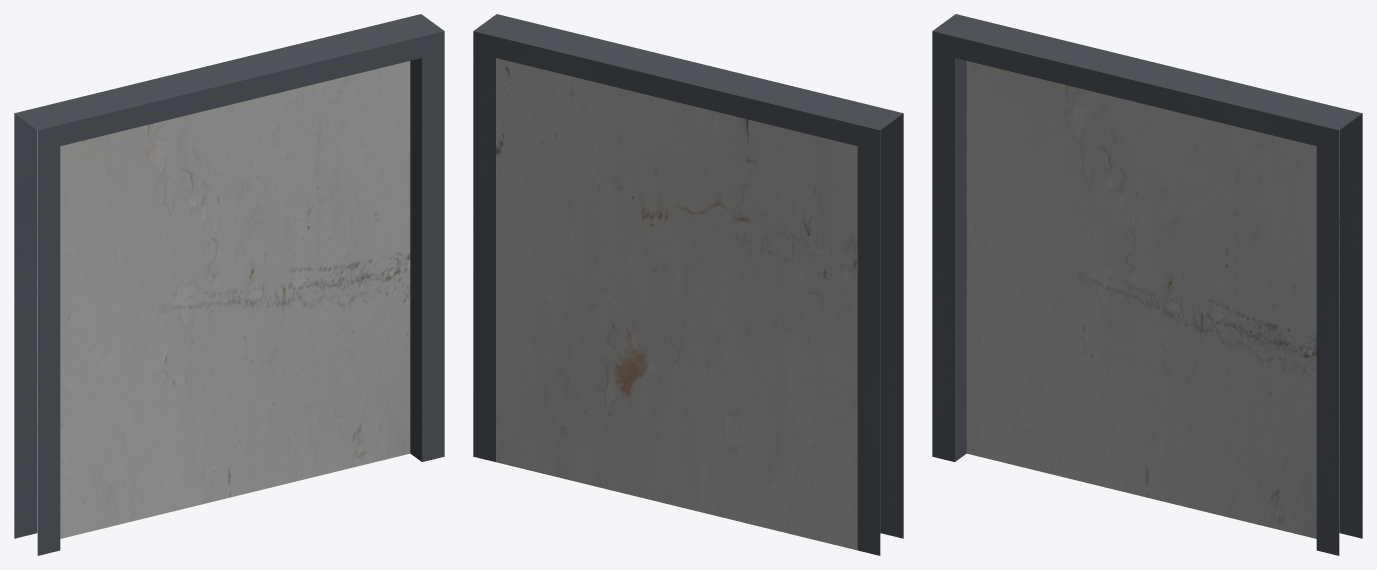
File: WallBig.glb
The picture shows the model from 3 angles, left to right: view 1: azimuth 30°, elevation 25°; view 2: azimuth 150°, elevation 25°; view 3: azimuth 330°, elevation 25°; orthographic projection.
Parts seen in each view (by area): view 1: WallBig; view 2: WallBig; view 3: WallBig.
Part boxes in pixels (bbox=[...]): WallBig: bbox=[14, 14, 444, 555]; WallBig: bbox=[473, 14, 903, 555]; WallBig: bbox=[932, 14, 1362, 555].
Bounding box in the file's own units: 8 × 8 × 0.7999.
Materials: 2 (2 with a texture image).
